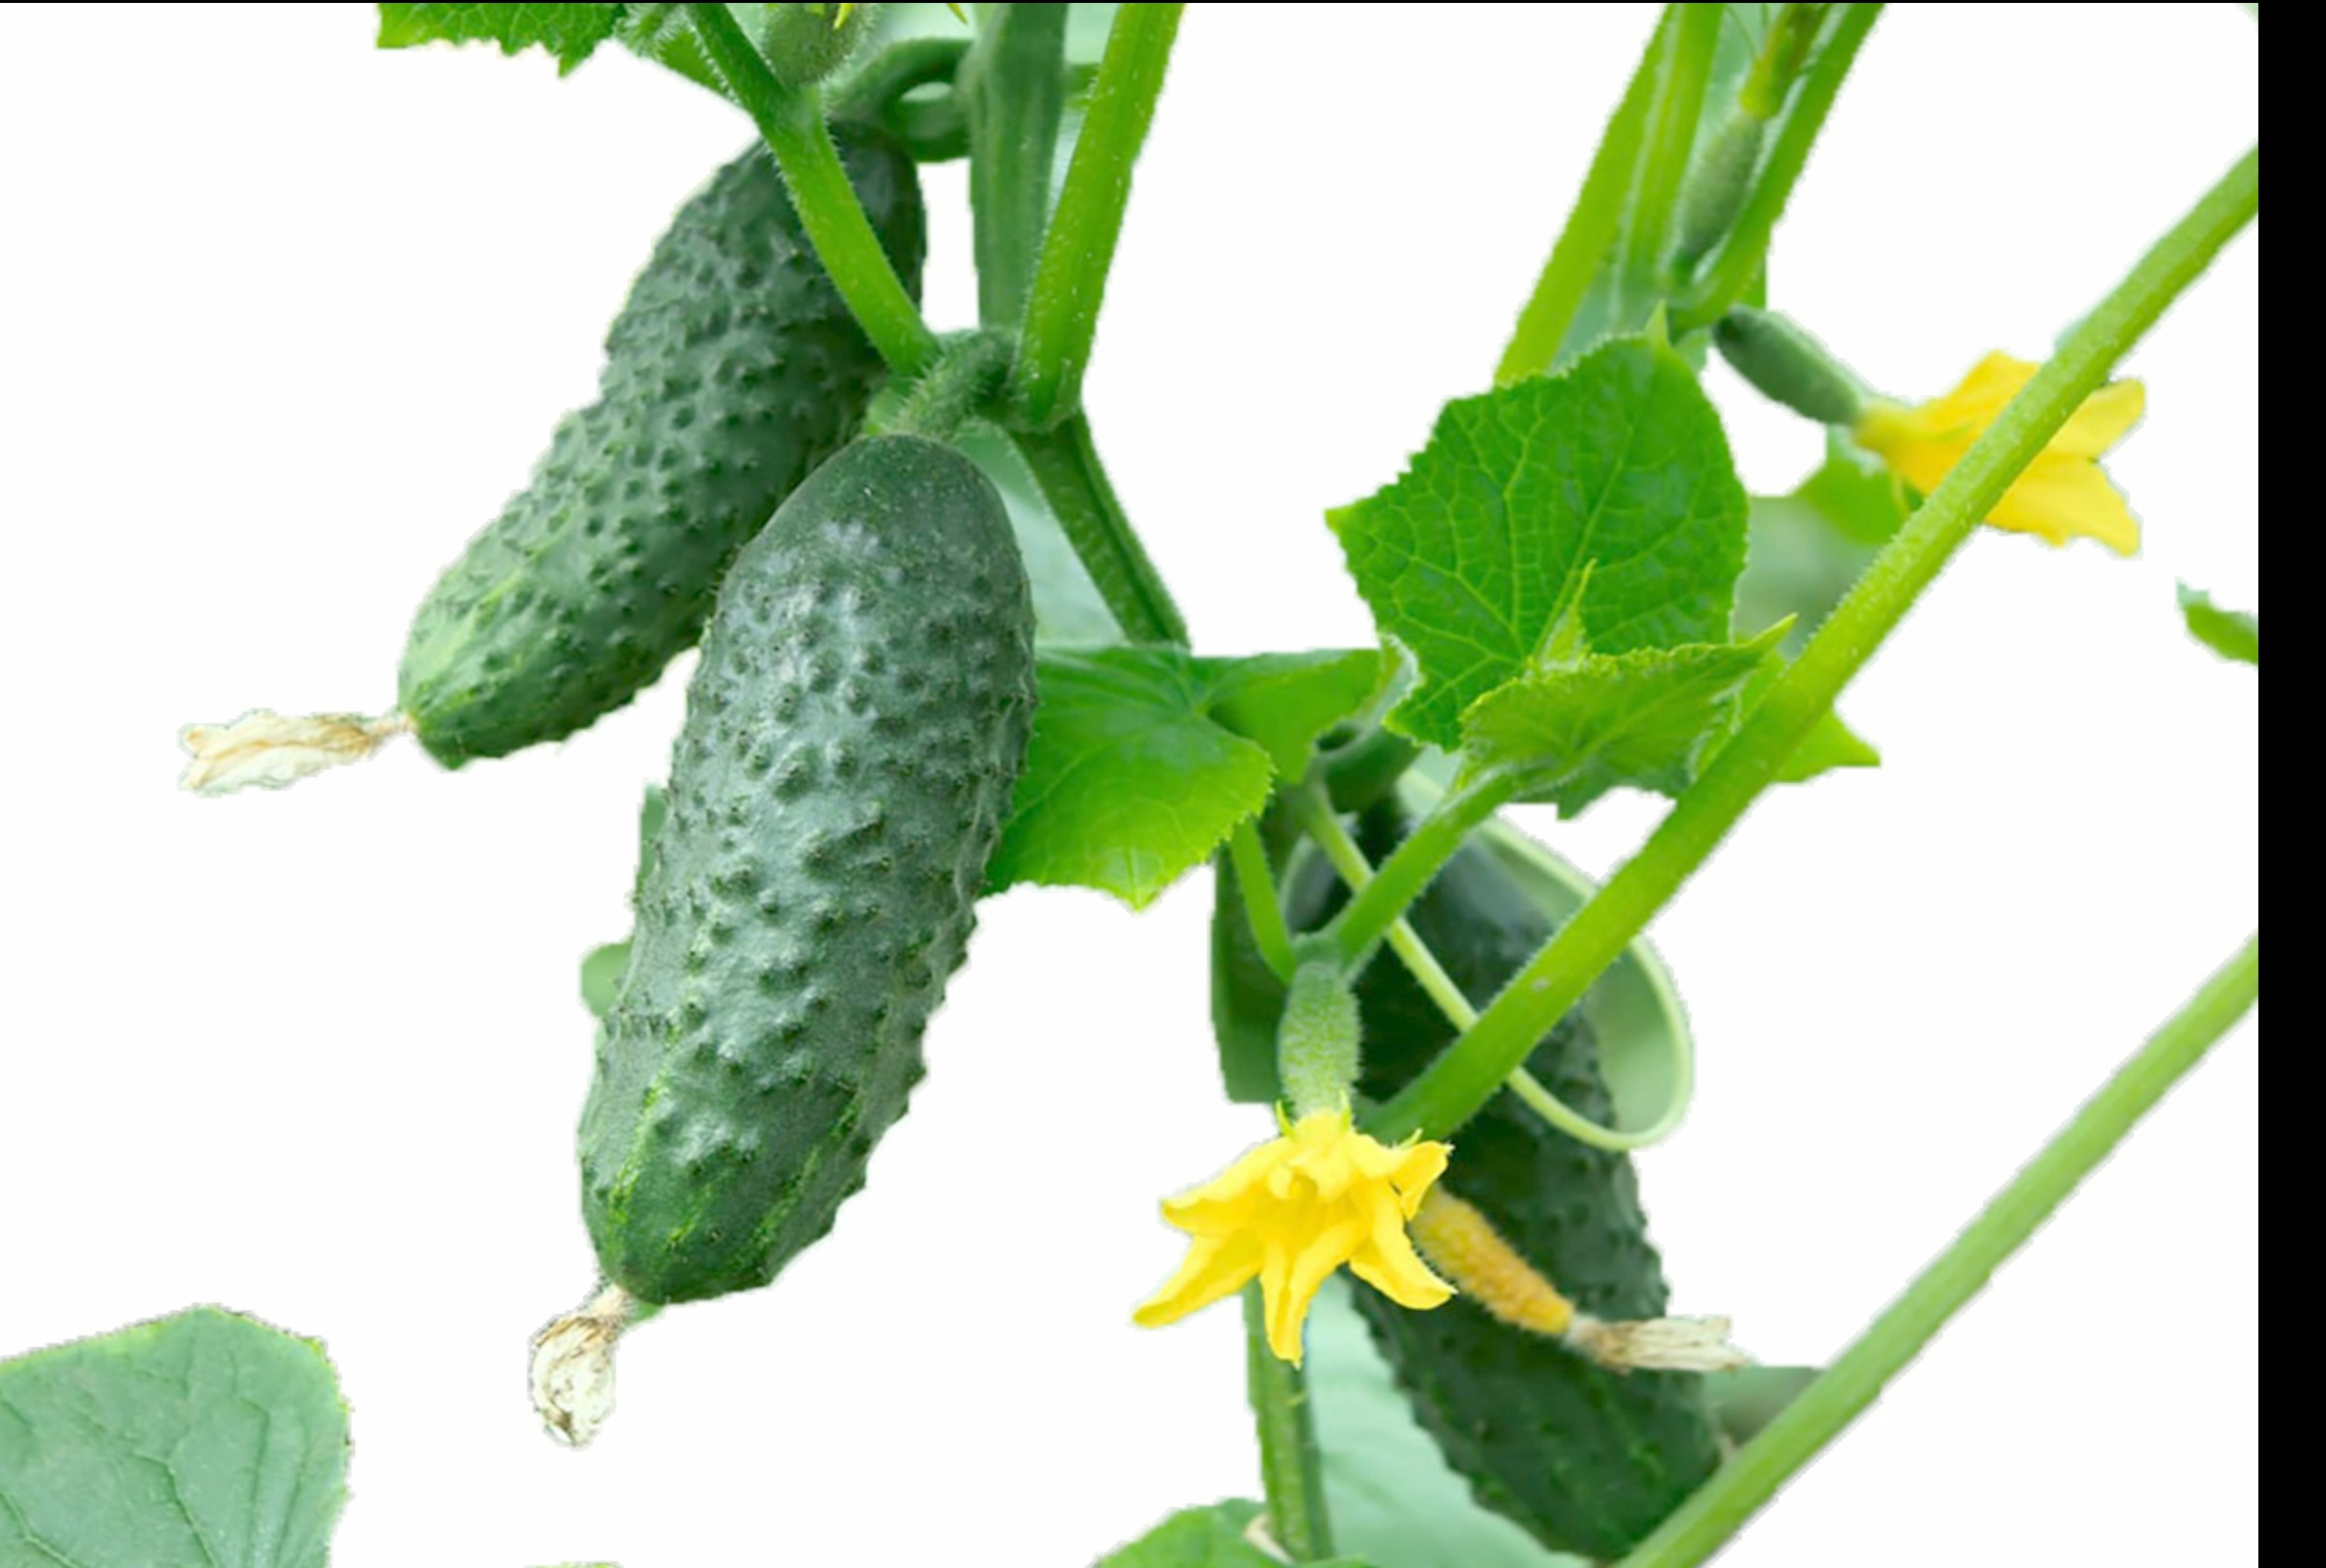cucumber: (338, 96, 973, 786), (572, 439, 1027, 1319)
cucumber_plant: (1090, 3, 2179, 1535)
